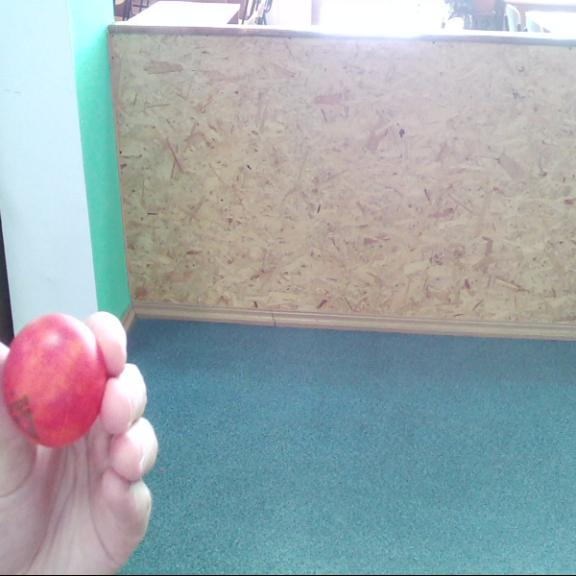ball: (5, 314, 104, 438)
